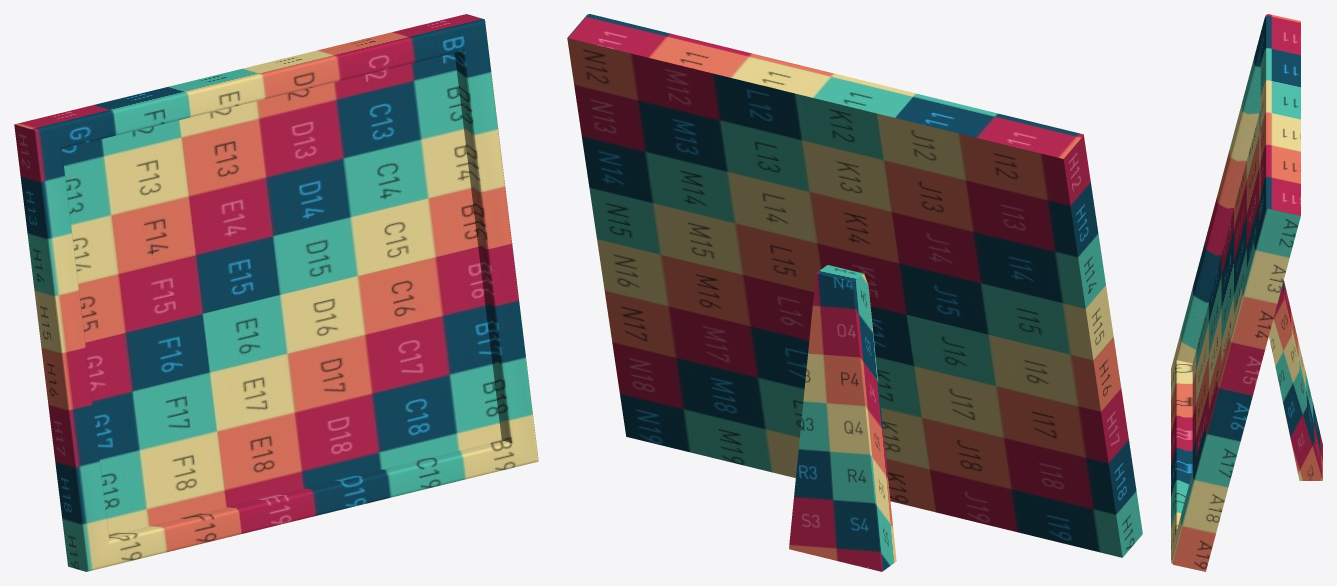
Rendered from sml_picture_frame.fbx.
3 views of the same model, side by side, from view 1: azimuth 30°, elevation 25°; view 2: azimuth 150°, elevation 25°; view 3: azimuth 270°, elevation 25° (orthographic). The views are drawn at different scales.
Visible parts, largest first — view 1: picture_frame2; view 2: picture_frame2; view 3: picture_frame2.
Part boxes in pixels (x1=…): picture_frame2: x1=14, y1=14, x2=538, y2=571; picture_frame2: x1=567, y1=14, x2=1142, y2=571; picture_frame2: x1=1171, y1=14, x2=1322, y2=571.
Size of the model in its own units: 19.08 by 16.63 by 6.28.
